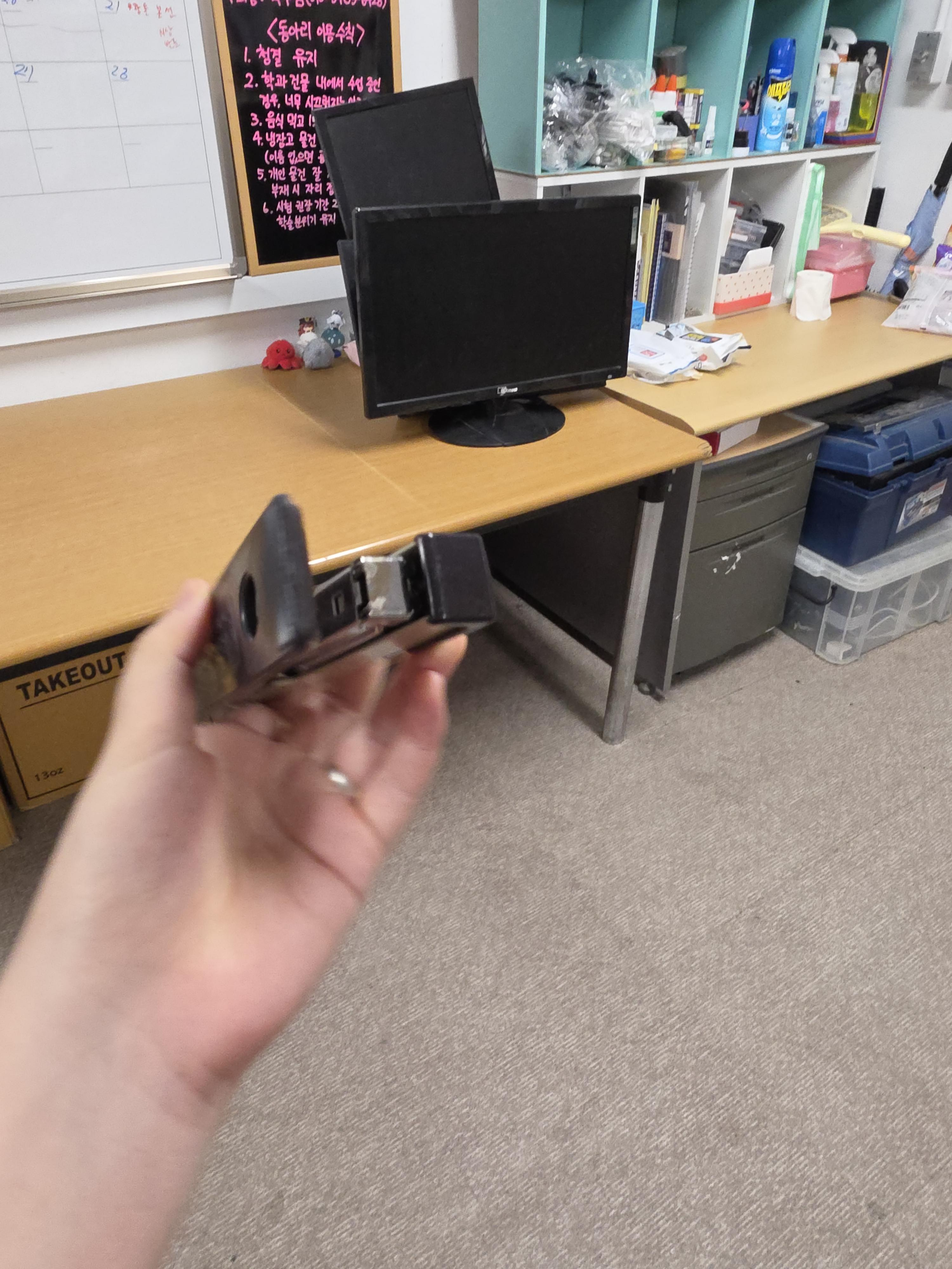stapler: (190, 493, 497, 723)
tissue: (711, 246, 774, 317), (791, 269, 834, 322)
